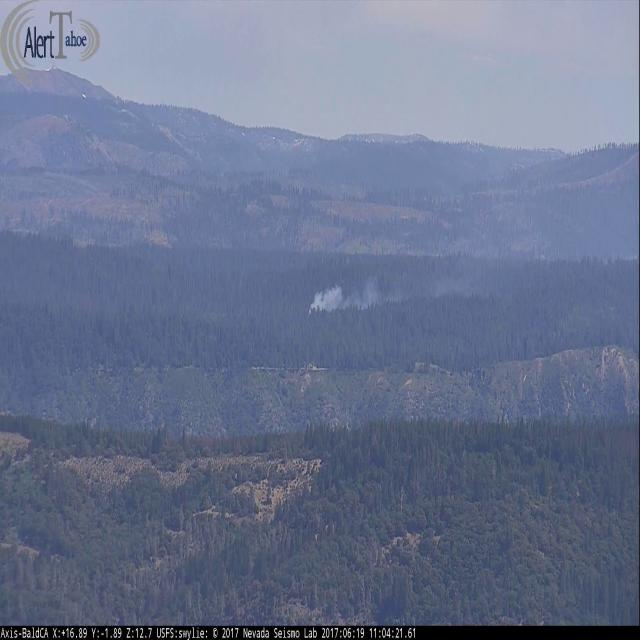smoke: (308, 258, 480, 319)
